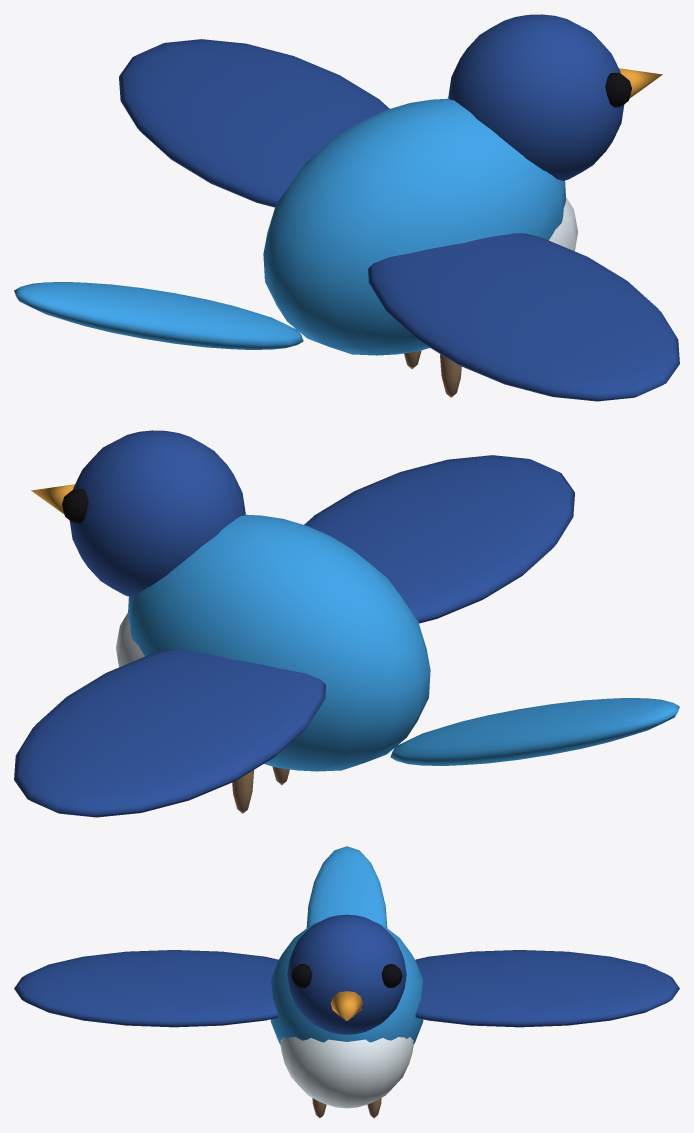
File: room_birds_props.glb
3 renders of one model, top to bottom at view 1: azimuth 30°, elevation 25°; view 2: azimuth 150°, elevation 25°; view 3: azimuth 270°, elevation 25°, orthographic. The views are drawn at different scales.
Visible parts, largest first — view 1: prop_birdfly_body, prop_birdfly_wr_feather, prop_birdfly_wl_feather, prop_birdfly_head, prop_birdfly_tail, prop_birdfly, prop_birdfly_belly; view 2: prop_birdfly_body, prop_birdfly_wl_feather, prop_birdfly_wr_feather, prop_birdfly_head, prop_birdfly_tail, prop_birdfly, prop_birdfly_belly; view 3: prop_birdfly_wl_feather, prop_birdfly_wr_feather, prop_birdfly_head, prop_birdfly_belly, prop_birdfly_body, prop_birdfly_tail, prop_birdfly, prop_birdfly_beak.
Boxes of the visible parts, x1,y1,x2,y2 form: prop_birdfly_body: [263, 98, 565, 355]; prop_birdfly_wr_feather: [368, 233, 679, 401]; prop_birdfly_wl_feather: [119, 39, 389, 207]; prop_birdfly_head: [448, 14, 624, 180]; prop_birdfly_tail: [14, 282, 303, 349]; prop_birdfly: [404, 72, 631, 397]; prop_birdfly_belly: [549, 197, 577, 251]; prop_birdfly_body: [128, 514, 430, 771]; prop_birdfly_wl_feather: [14, 649, 325, 817]; prop_birdfly_wr_feather: [304, 455, 574, 623]; prop_birdfly_head: [69, 430, 245, 596]; prop_birdfly_tail: [390, 698, 679, 765]; prop_birdfly: [62, 488, 289, 813]; prop_birdfly_belly: [116, 613, 144, 667]; prop_birdfly_wl_feather: [415, 950, 679, 1027]; prop_birdfly_wr_feather: [14, 950, 278, 1027]; prop_birdfly_head: [287, 914, 406, 1034]; prop_birdfly_belly: [280, 1037, 413, 1108]; prop_birdfly_body: [270, 922, 423, 1044]; prop_birdfly_tail: [306, 846, 387, 927]; prop_birdfly: [291, 964, 402, 1118]; prop_birdfly_beak: [330, 991, 363, 1020].
Bounding box in the file's own units: 0.4213 × 0.209 × 0.54.
